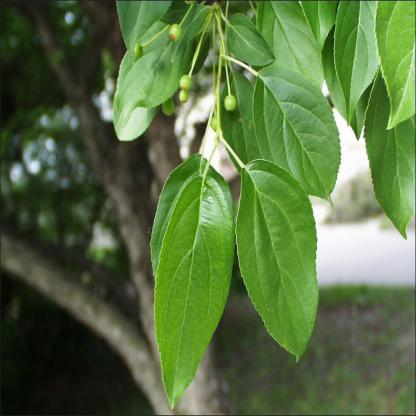apple leaf: (146, 149, 236, 415), (233, 157, 326, 379), (105, 5, 217, 152), (251, 66, 347, 209), (353, 56, 415, 254)
